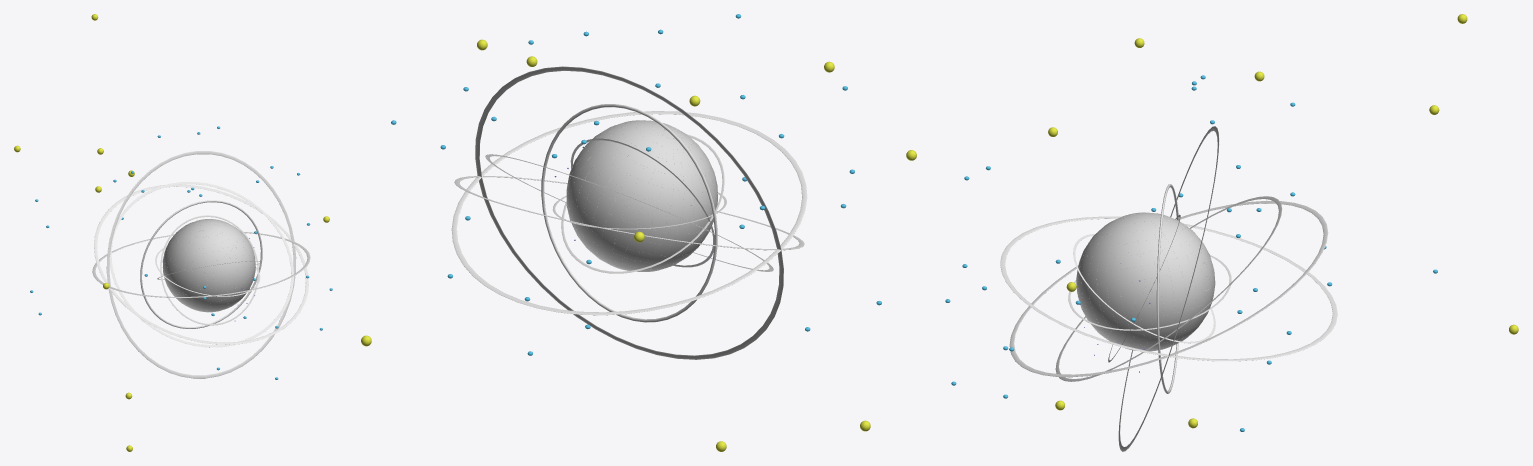
File: earth.fbx
The picture shows the model from 3 angles, left to right: view 1: azimuth 30°, elevation 25°; view 2: azimuth 150°, elevation 25°; view 3: azimuth 270°, elevation 25°; orthographic projection. The views are drawn at different scales.
Visible parts, largest first — view 1: Sphere, BezierCircle.003, BezierCircle.002, BezierCircle.001, BezierCircle.004, BezierCircle.005, BezierCircle.006; view 2: Sphere, BezierCircle.003, BezierCircle.005, BezierCircle.004, BezierCircle.002, BezierCircle.007, BezierCircle.001, BezierCircle.006; view 3: Sphere, BezierCircle.005, BezierCircle.002, BezierCircle.001, BezierCircle.003, BezierCircle.004.
Part boxes in pixels (<box>): Sphere: <box>162,219,255,312</box>; BezierCircle.003: <box>106,151,296,378</box>; BezierCircle.002: <box>94,184,308,344</box>; BezierCircle.001: <box>109,182,293,347</box>; BezierCircle.004: <box>140,200,262,328</box>; BezierCircle.005: <box>92,232,310,297</box>; BezierCircle.006: <box>160,215,258,325</box>; Sphere: <box>566,120,717,271</box>; BezierCircle.003: <box>475,66,783,359</box>; BezierCircle.005: <box>451,111,807,315</box>; BezierCircle.004: <box>541,104,717,322</box>; BezierCircle.002: <box>454,176,804,250</box>; BezierCircle.007: <box>561,134,724,273</box>; BezierCircle.001: <box>485,154,773,271</box>; BezierCircle.006: <box>570,138,714,267</box>; Sphere: <box>1076,212,1215,351</box>; BezierCircle.005: <box>1000,216,1337,361</box>; BezierCircle.002: <box>1009,200,1328,377</box>; BezierCircle.001: <box>1055,196,1282,381</box>; BezierCircle.003: <box>1118,126,1219,451</box>; BezierCircle.004: <box>1156,184,1179,393</box>.
Bounding box in the file's own units: 3472 × 3710 × 4117.
